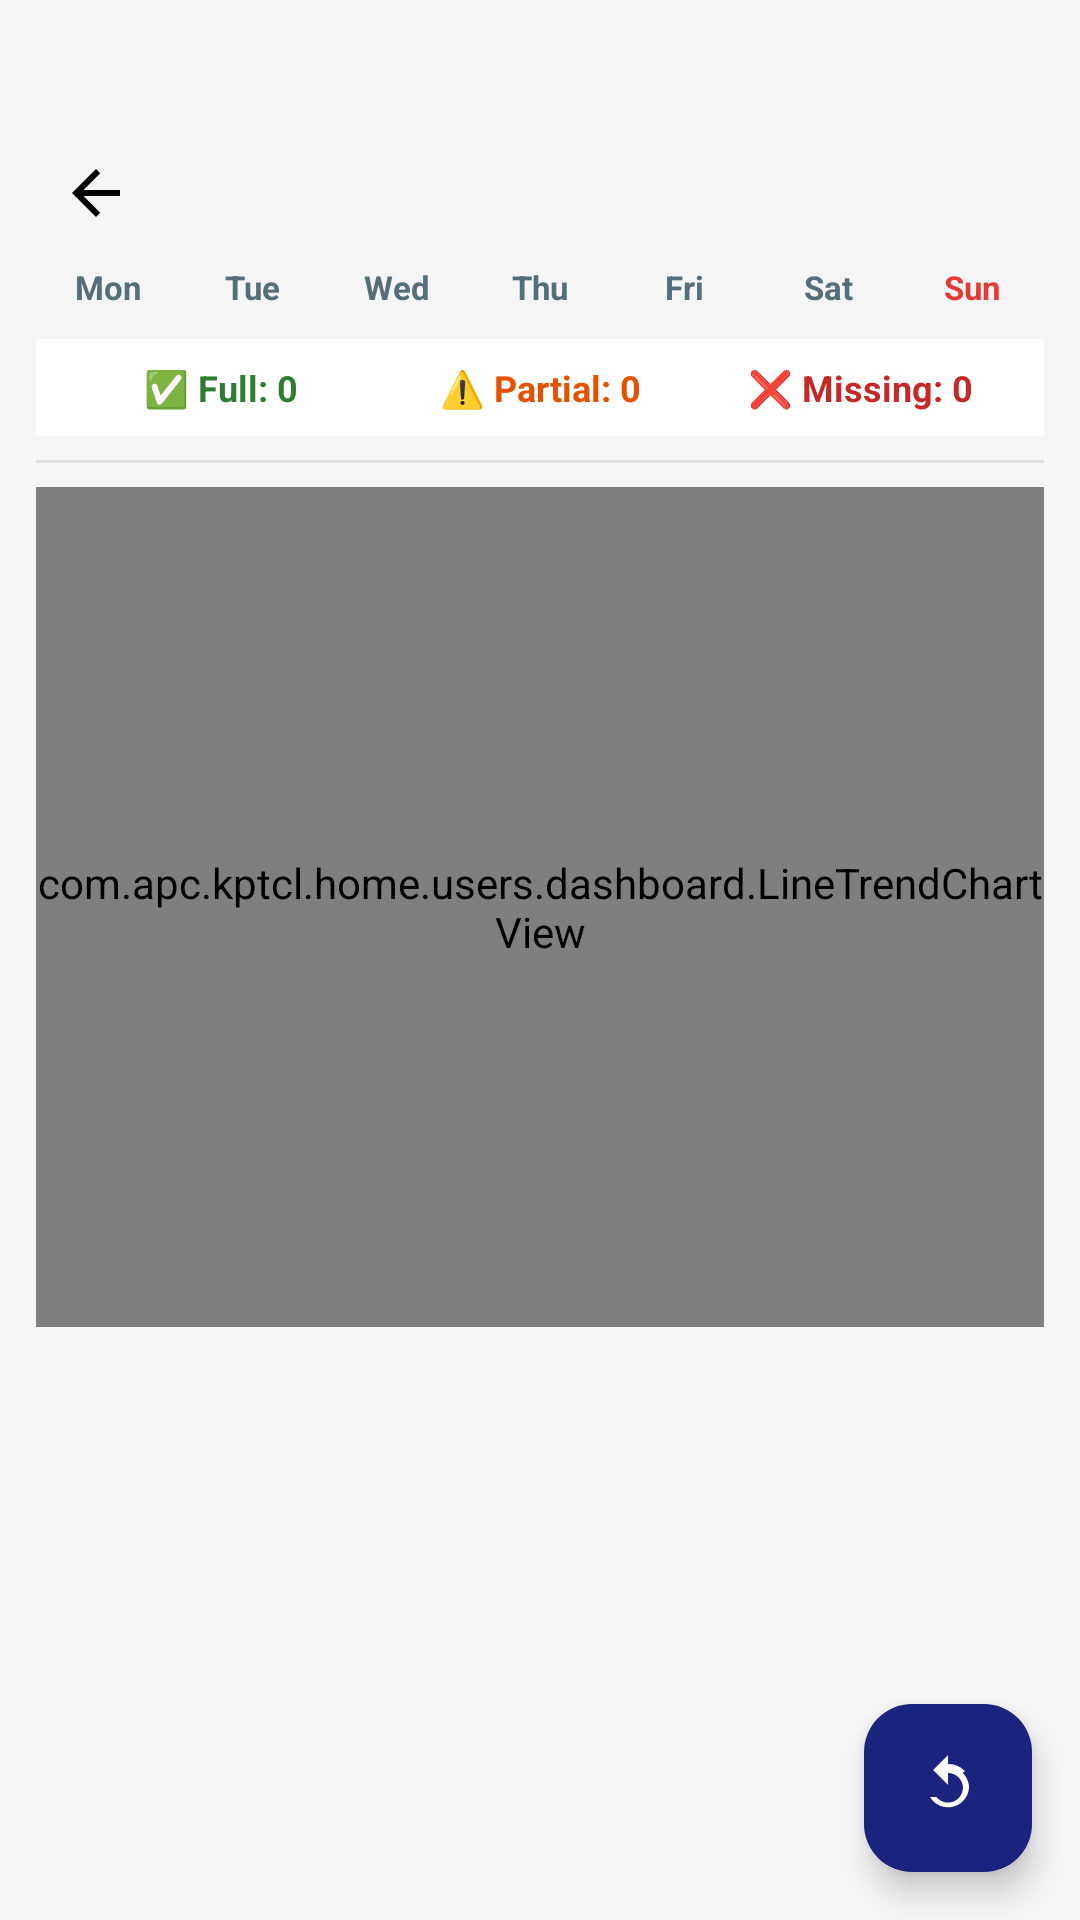

Named icons in this screenshot (1080w x 1920h) and their centers, [x,y]:
Previous Month: [96,193]
Refresh current month: [948,1788]
